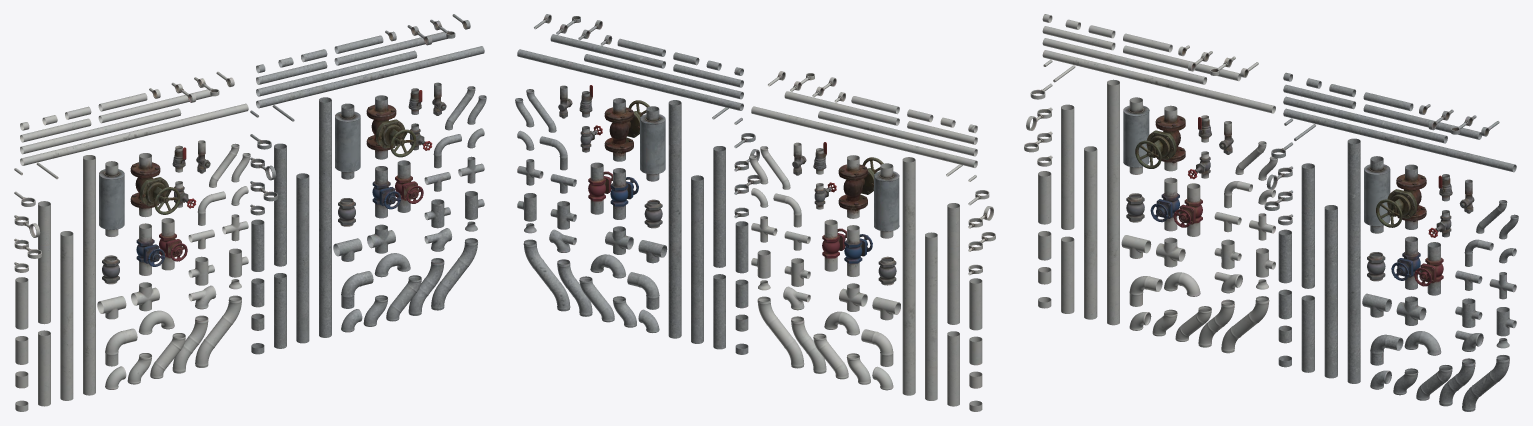
The model's file is modular_pipes.glb.
3 views of the same model, side by side, from view 1: azimuth 30°, elevation 25°; view 2: azimuth 150°, elevation 25°; view 3: azimuth 330°, elevation 25° (orthographic). The views are drawn at different scales.
Visible parts, largest first — view 1: pipe_200cm_pvc, pipe_200cm_metal, pipe_140cm_metal, pipe_140cm_pvc, pipe_thin_200cm_pvc, pipe_thin_200cm_metal, pipe_valve_large_metal, pipe_valve_large_pvc, pipe_chamber_large_metal, pipe_chamber_large_pvc, pipe_100cm_metal, pipe_100cm_pvc (+35 smaller); view 2: pipe_200cm_pvc, pipe_200cm_metal, pipe_140cm_pvc, pipe_140cm_metal, pipe_thin_200cm_metal, pipe_thin_200cm_pvc, pipe_chamber_large_metal, pipe_chamber_large_pvc, pipe_valve_large_pvc, pipe_valve_large_metal, pipe_100cm_metal, pipe_100cm_pvc (+35 smaller); view 3: pipe_200cm_metal, pipe_200cm_pvc, pipe_140cm_metal, pipe_140cm_pvc, pipe_thin_200cm_metal, pipe_thin_200cm_pvc, pipe_valve_large_pvc, pipe_valve_large_metal, pipe_100cm_pvc, pipe_100cm_metal, pipe_chamber_large_pvc, pipe_chamber_large_metal (+33 smaller).
Part boxes in pixels (bbox=[...]): pipe_200cm_pvc: bbox=[83, 155, 95, 395]; pipe_200cm_metal: bbox=[319, 97, 331, 337]; pipe_140cm_metal: bbox=[296, 173, 309, 343]; pipe_140cm_pvc: bbox=[60, 231, 73, 400]; pipe_thin_200cm_pvc: bbox=[20, 103, 248, 165]; pipe_thin_200cm_metal: bbox=[256, 46, 484, 108]; pipe_valve_large_metal: bbox=[366, 95, 416, 159]; pipe_valve_large_pvc: bbox=[130, 153, 180, 217]; pipe_chamber_large_metal: bbox=[335, 103, 360, 179]; pipe_chamber_large_pvc: bbox=[99, 161, 124, 236]; pipe_100cm_metal: bbox=[274, 143, 286, 266]; pipe_100cm_pvc: bbox=[38, 201, 50, 324]; pipe_200cm_pvc: bbox=[902, 157, 915, 395]; pipe_200cm_metal: bbox=[668, 100, 681, 338]; pipe_140cm_pvc: bbox=[925, 232, 937, 400]; pipe_140cm_metal: bbox=[691, 175, 703, 343]; pipe_thin_200cm_metal: bbox=[517, 49, 743, 110]; pipe_thin_200cm_pvc: bbox=[751, 106, 977, 167]; pipe_chamber_large_metal: bbox=[640, 106, 665, 181]; pipe_chamber_large_pvc: bbox=[874, 163, 899, 238]; pipe_valve_large_pvc: bbox=[838, 155, 883, 218]; pipe_valve_large_metal: bbox=[604, 98, 649, 161]; pipe_100cm_metal: bbox=[713, 146, 725, 267]; pipe_100cm_pvc: bbox=[947, 203, 959, 324]; pipe_200cm_metal: bbox=[1347, 138, 1360, 383]; pipe_200cm_pvc: bbox=[1107, 79, 1119, 325]; pipe_140cm_metal: bbox=[1324, 205, 1337, 378]; pipe_140cm_pvc: bbox=[1084, 146, 1097, 319]; pipe_thin_200cm_metal: bbox=[1283, 108, 1516, 172]; pipe_thin_200cm_pvc: bbox=[1042, 50, 1275, 113]; pipe_valve_large_pvc: bbox=[1135, 105, 1185, 171]; pipe_valve_large_metal: bbox=[1376, 164, 1426, 229]; pipe_100cm_pvc: bbox=[1061, 104, 1074, 229]; pipe_100cm_metal: bbox=[1301, 163, 1314, 288]; pipe_chamber_large_pvc: bbox=[1123, 97, 1149, 174]; pipe_chamber_large_metal: bbox=[1364, 156, 1390, 233].
Bounding box in the file's own units: 4.19 × 2.43 × 0.4578.
Materials: 2 (2 with a texture image).
